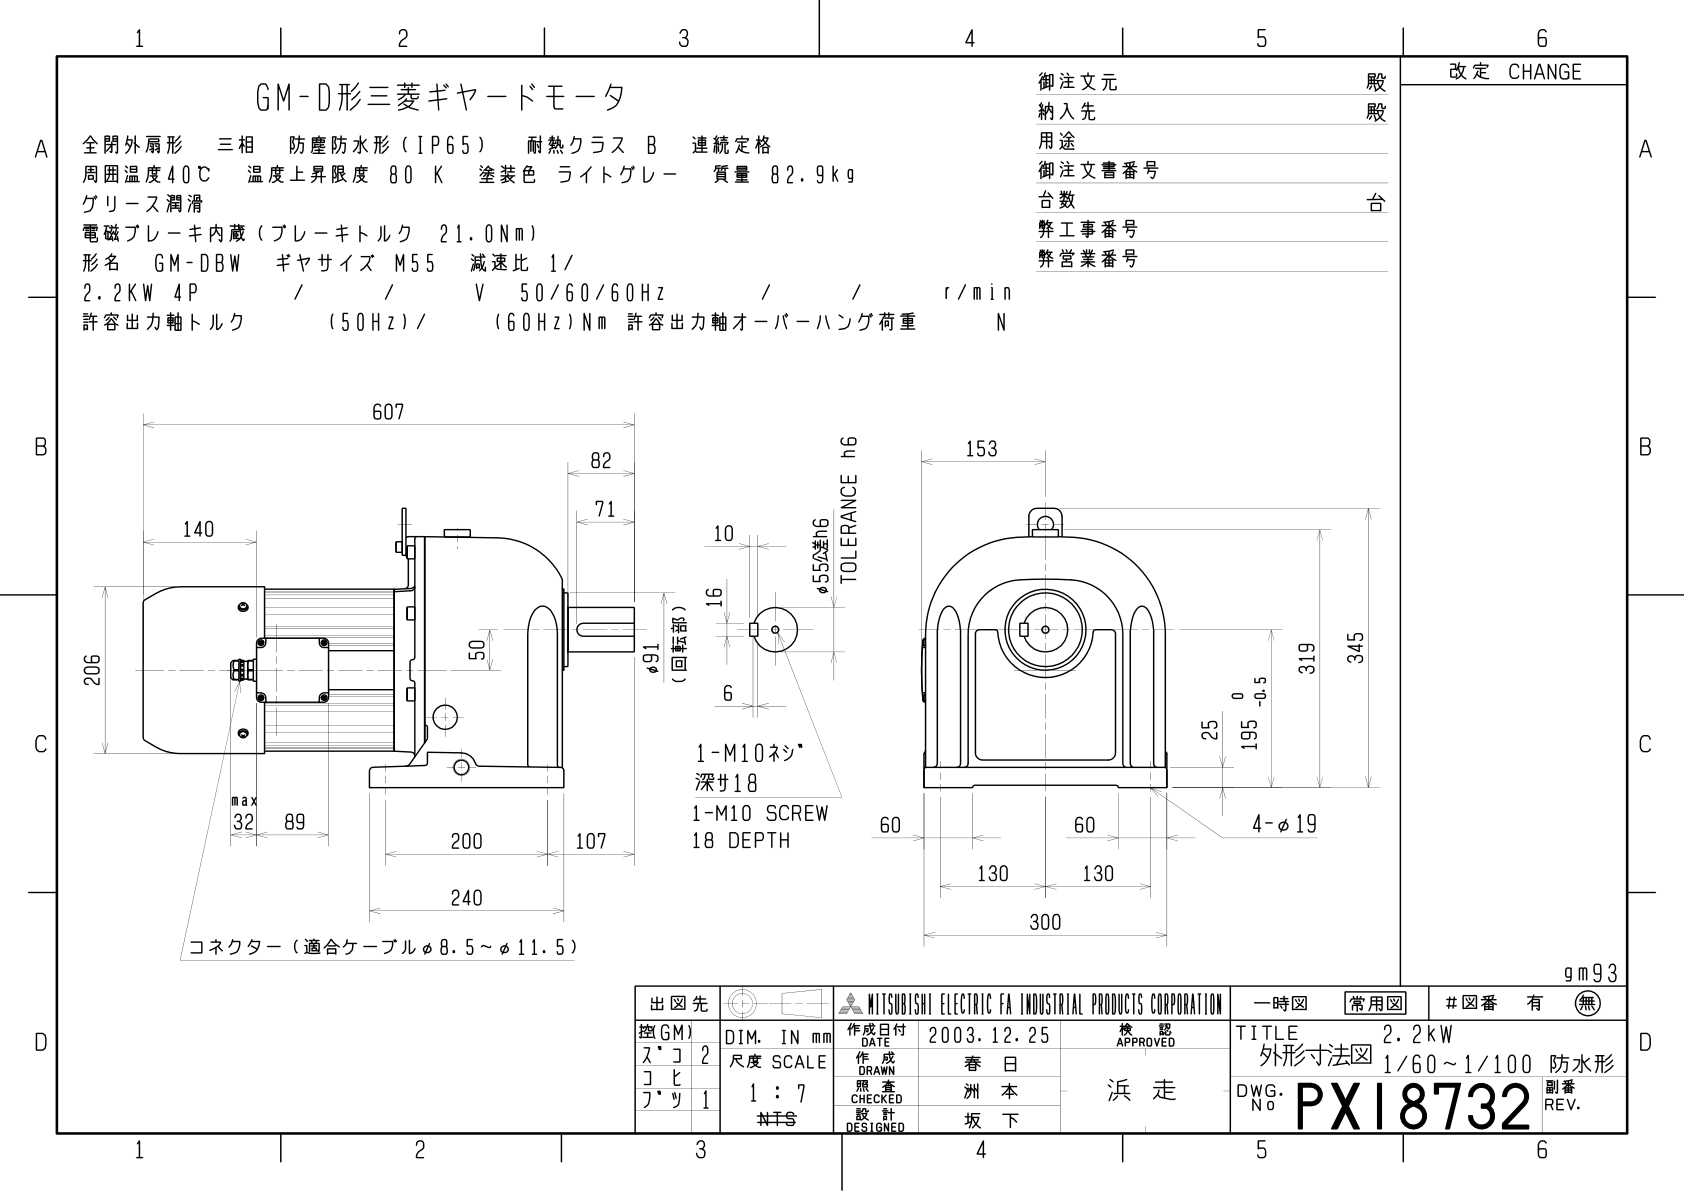GM_D_IP65_三相_脚: (67, 384, 1371, 971)
